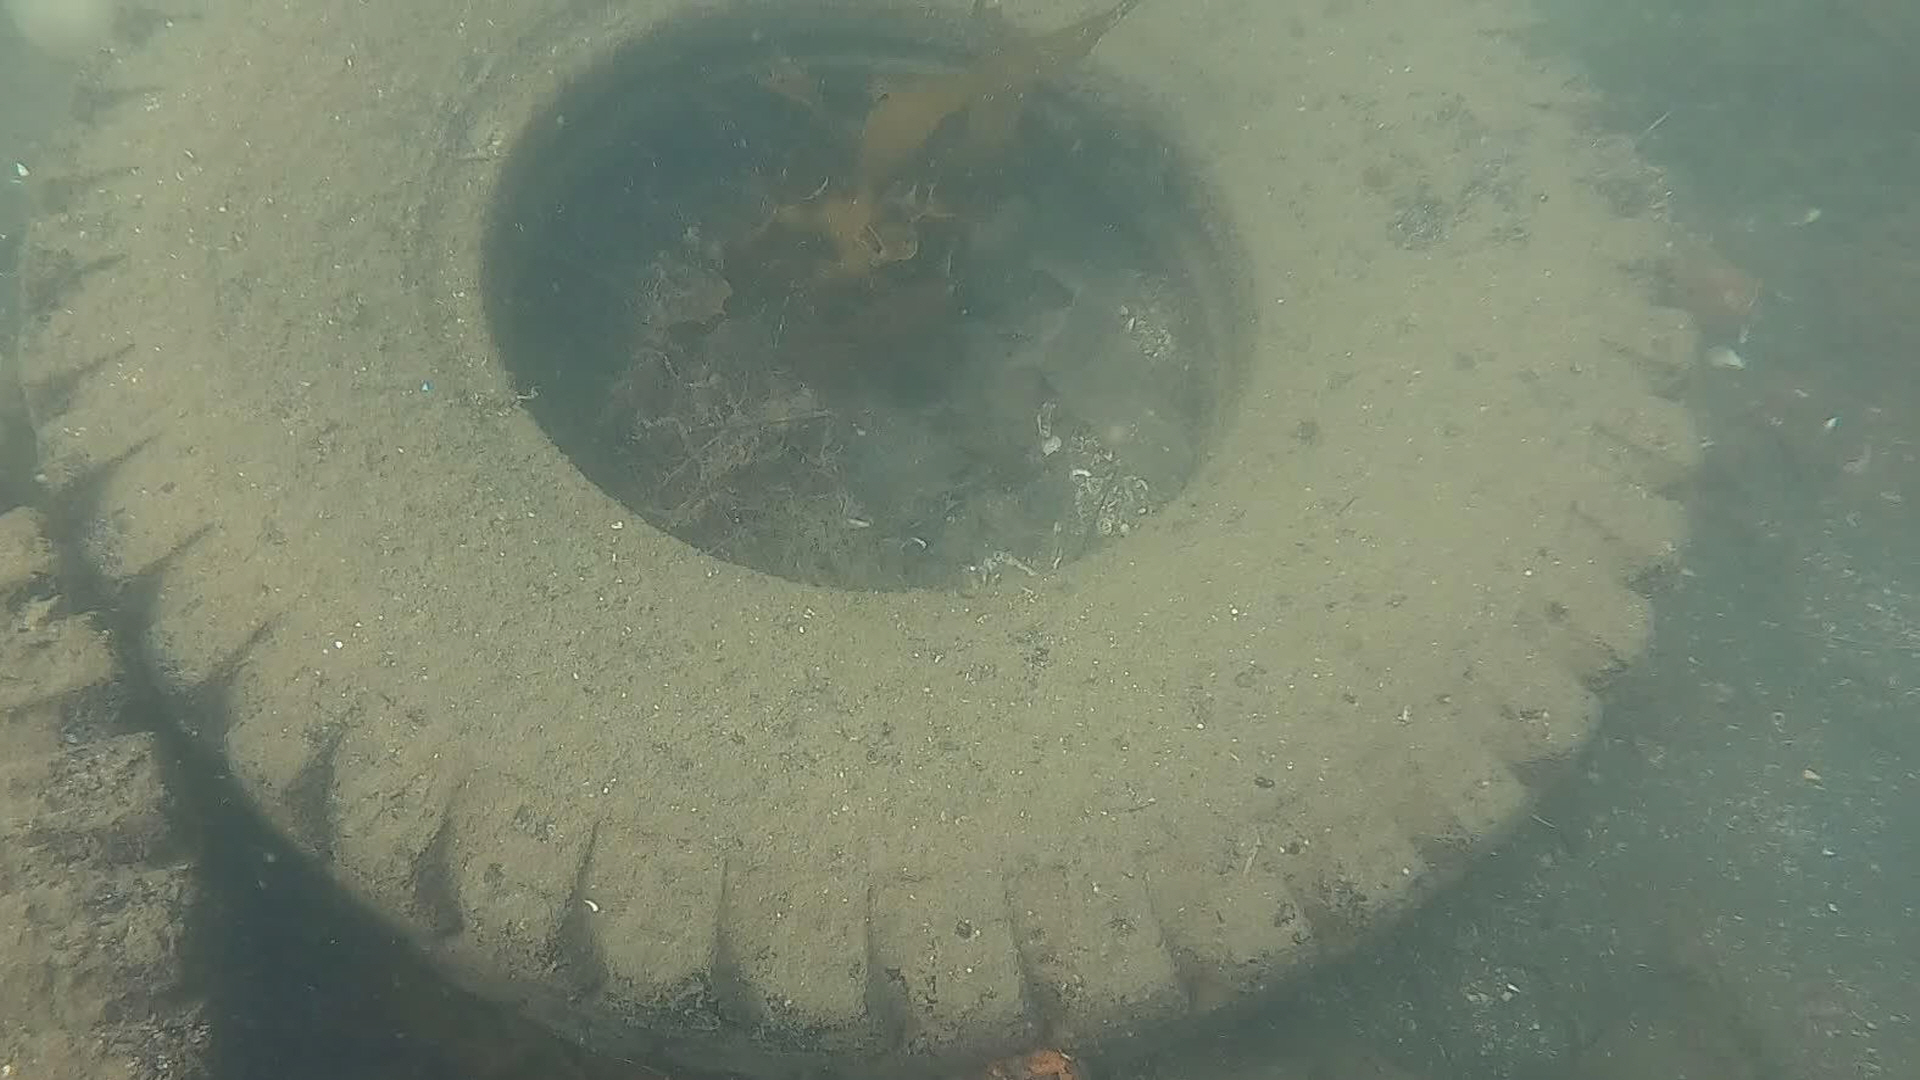tire: (26, 0, 1706, 1080)
